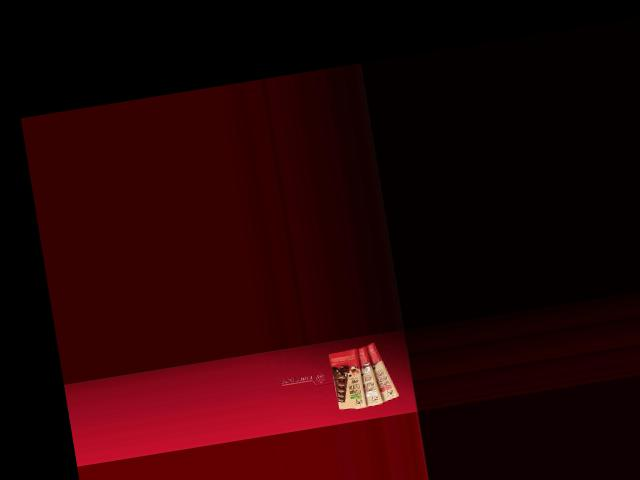chocolate: (359, 337, 400, 407)
